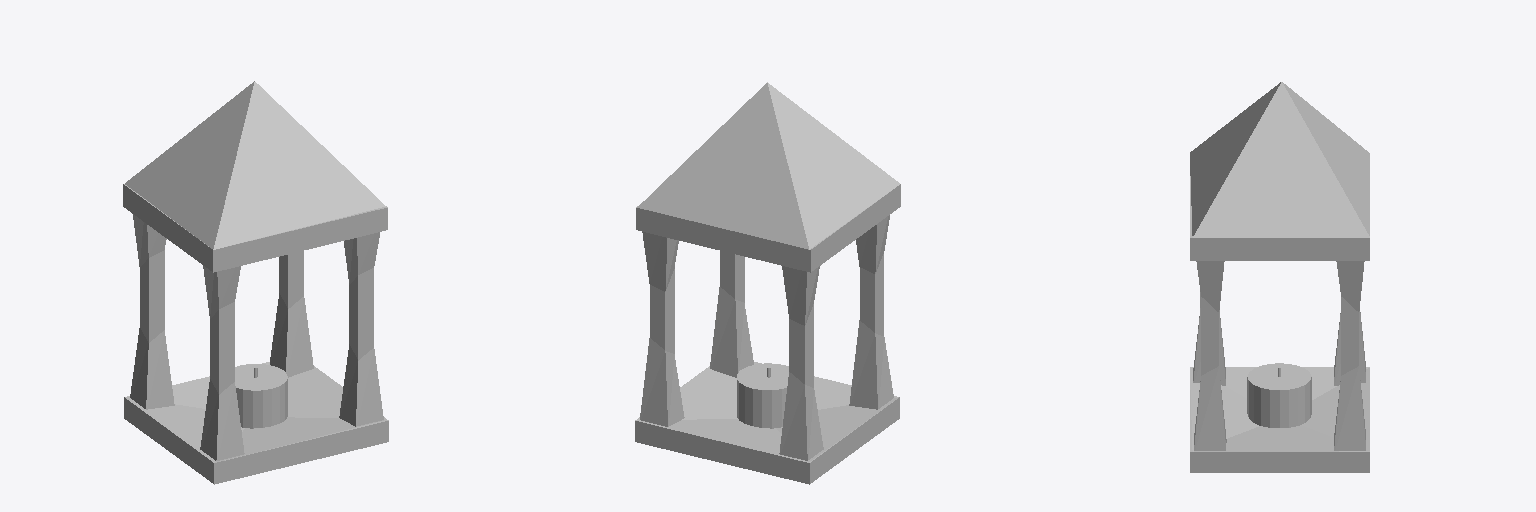
File: Lantern.obj
The picture shows the model from 3 angles: view 1: azimuth 30°, elevation 25°; view 2: azimuth 150°, elevation 25°; view 3: azimuth 270°, elevation 25°; orthographic projection.
Parts seen in each view (by area): view 1: pCube9; view 2: pCube9; view 3: pCube9.
Part boxes in pixels (x1,y1,x2,y2): pCube9: (123,81,388,484); pCube9: (635,82,900,484); pCube9: (1190,82,1369,472).
Size of the model in its own units: 6.64 by 12.6 by 5.91.